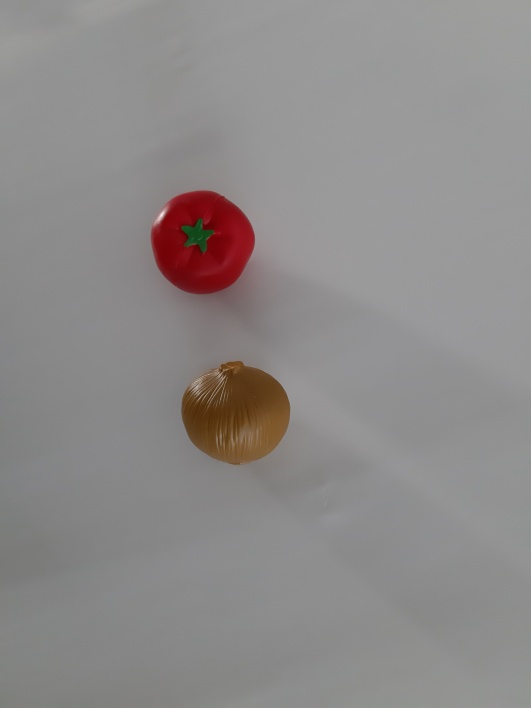onion: (167, 348, 314, 485)
tomato: (133, 177, 268, 307)
